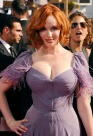female: (28, 9, 70, 50)
